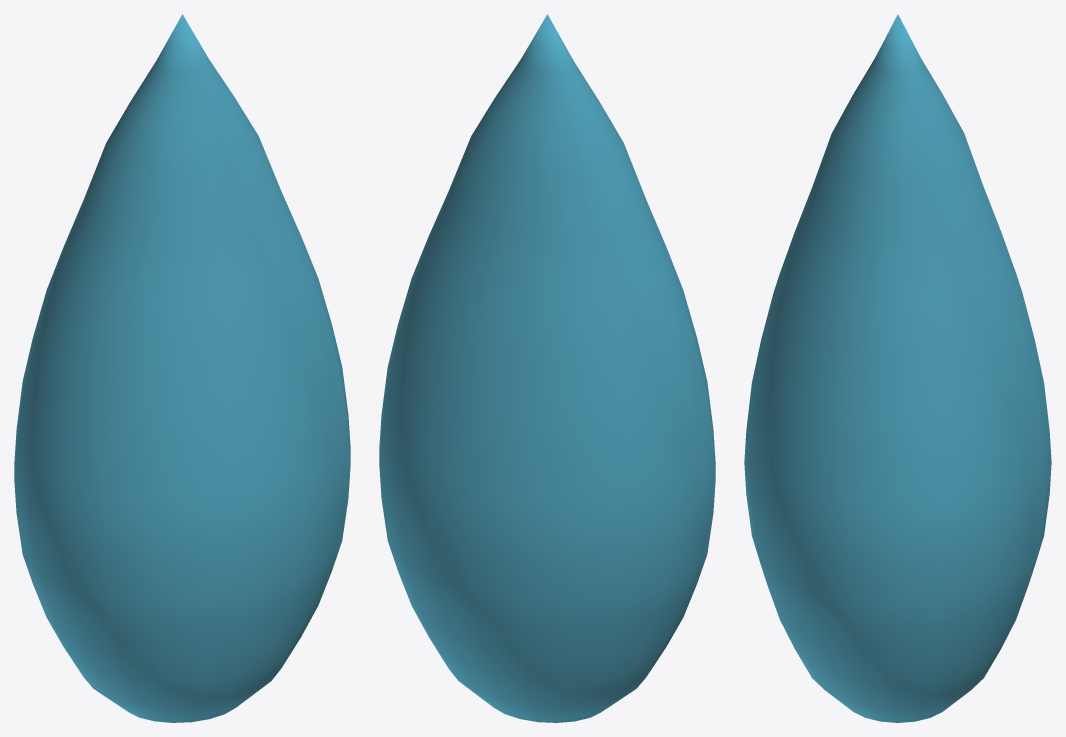
The model's file is SM_Crystal_03.fbx.
3 renders of one model, left to right at view 1: azimuth 30°, elevation 25°; view 2: azimuth 150°, elevation 25°; view 3: azimuth 270°, elevation 25°, orthographic.
Parts seen in each view (by area): view 1: pSphere1; view 2: pSphere1; view 3: pSphere1.
Boxes of the visible parts, x1,y1,x2,y2 form: pSphere1: [14, 14, 350, 722]; pSphere1: [379, 14, 715, 722]; pSphere1: [744, 14, 1051, 722].
Bounding box in the file's own units: 10.68 × 23.36 × 9.4.
